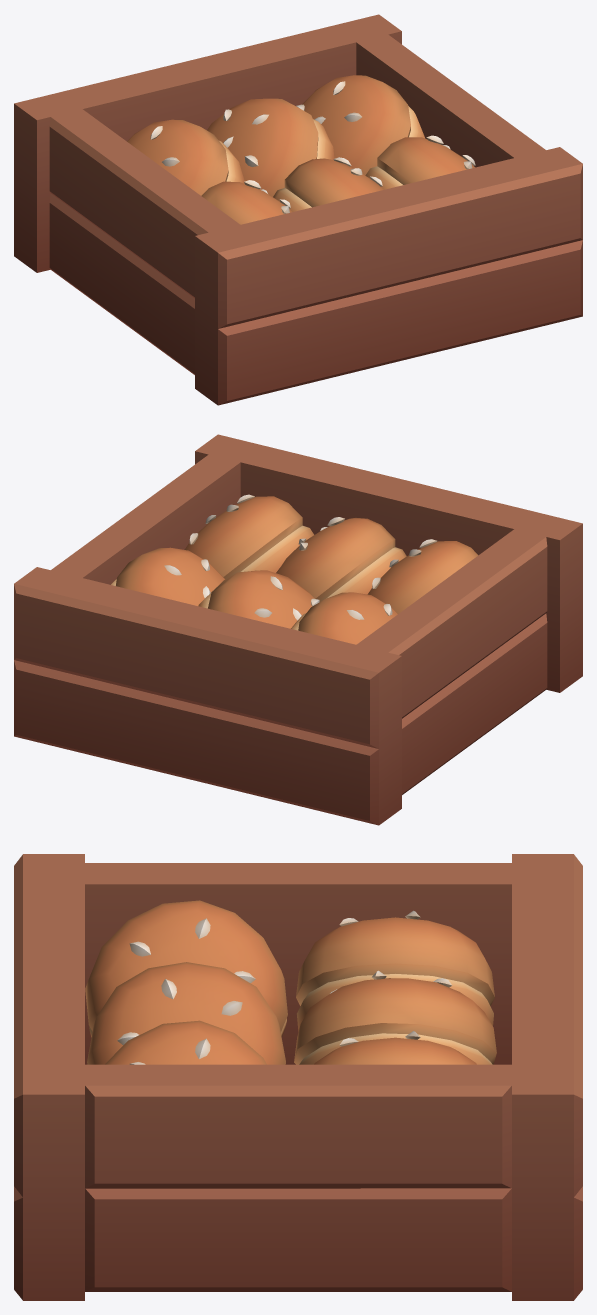
File: crate_buns.glb
The picture shows the model from 3 angles, top to bottom: view 1: azimuth 30°, elevation 25°; view 2: azimuth 150°, elevation 25°; view 3: azimuth 270°, elevation 25°; orthographic projection. The views are drawn at different scales.
Visible parts, largest first — view 1: crate_buns_Cube.233; view 2: crate_buns_Cube.233; view 3: crate_buns_Cube.233.
Boxes of the visible parts, x1,y1,x2,y2 form: crate_buns_Cube.233: (14,14,582,405); crate_buns_Cube.233: (14,434,582,825); crate_buns_Cube.233: (14,854,582,1300).
Bounding box in the file's own units: 2 × 0.8024 × 2.
Materials: 1 (1 with a texture image).
